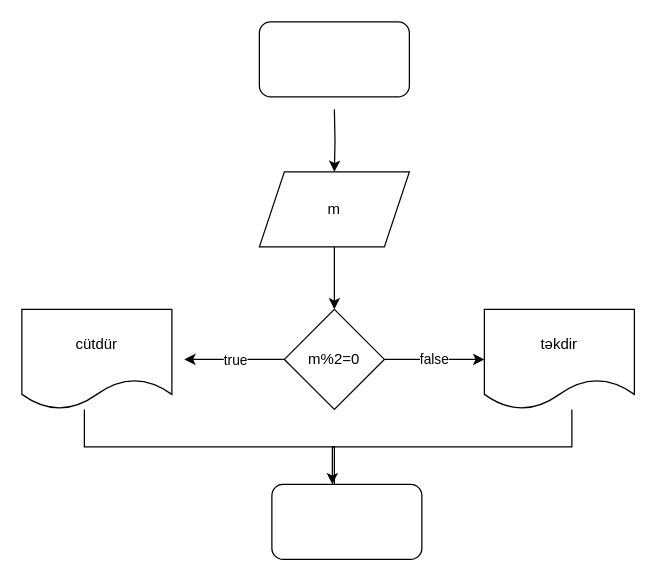
Some shapes in this 656 by 581 pixel diagram are drawn without their labels. The shapes that lost their labels are listed below. From the top down, each one's centre as x and y in pixels, then its label:
At (333,59): "start".
At (346,521): "end".
